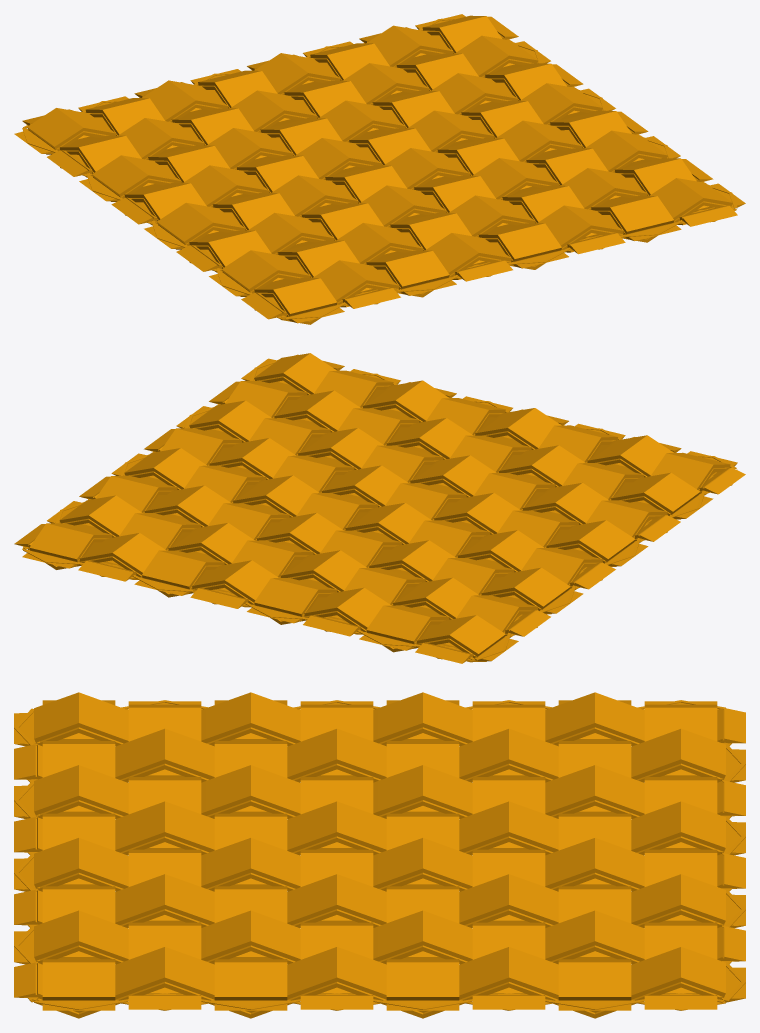
The picture shows the model from 3 angles, top to bottom: view 1: azimuth 30°, elevation 25°; view 2: azimuth 150°, elevation 25°; view 3: azimuth 270°, elevation 25°; orthographic projection. The views are drawn at different scales.
Visible parts, largest first — view 1: Box001; view 2: Box001; view 3: Box001.
Part boxes in pixels (<box>): Box001: <box>14,14,745,324</box>; Box001: <box>14,353,745,663</box>; Box001: <box>14,692,745,1018</box>.
Size of the model in its own units: 1.08 by 0.0671 by 1.08.
